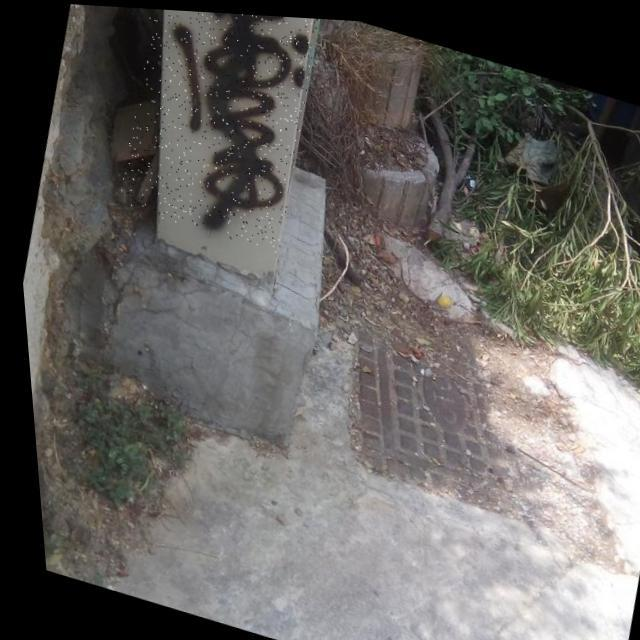-: (101, 5, 336, 253)
